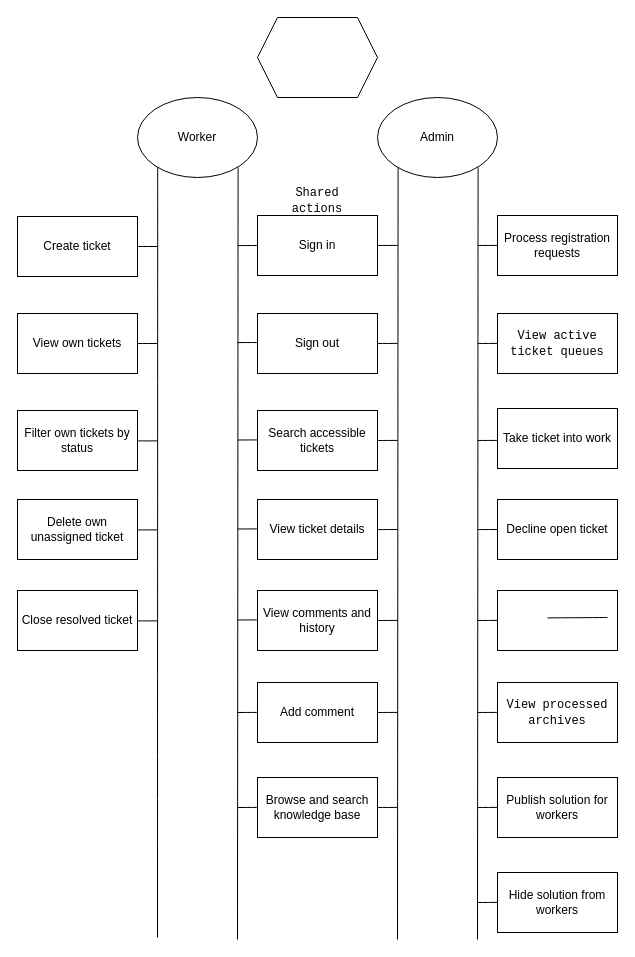
Some shapes in this 635 by 957 pixel diagram are drawn without their labels. The centre of each missing label's shape, as x and y in pixels:
"HelpDesk system" goes at (317,57).
"Resolve assigned ticket" goes at (557,620).
